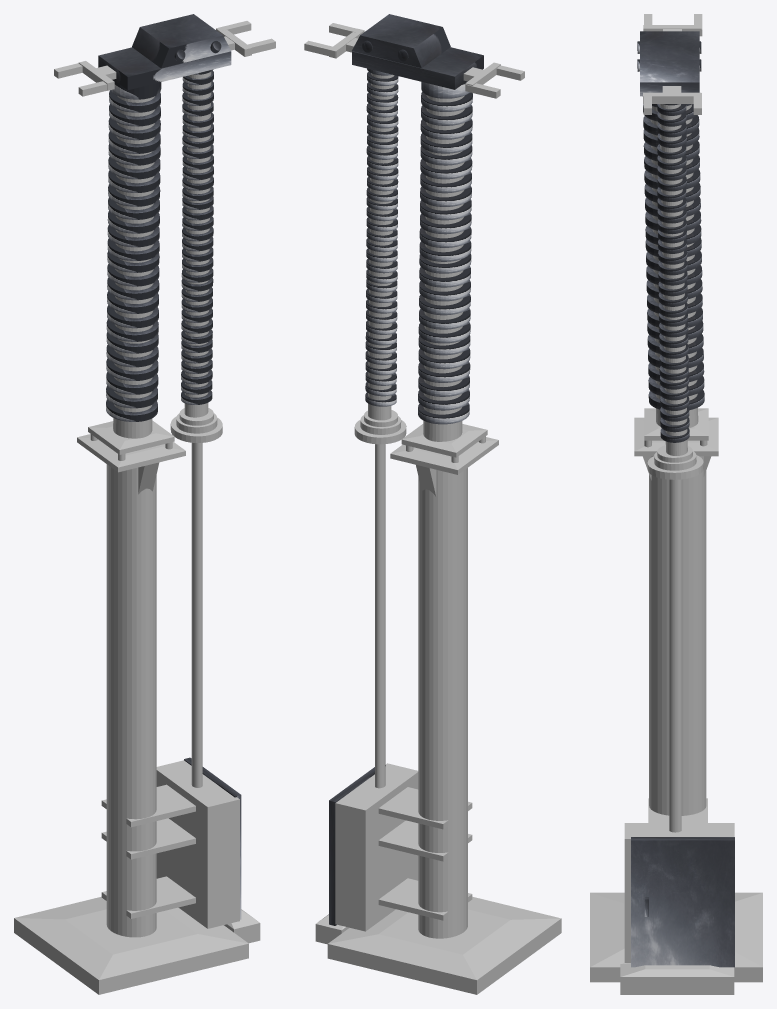
File: Modelo4_115.fbx
The picture shows the model from 3 angles, left to right: view 1: azimuth 30°, elevation 25°; view 2: azimuth 150°, elevation 25°; view 3: azimuth 270°, elevation 25°; orthographic projection. The views are drawn at different scales.
Visible parts, largest first — view 1: Cube.051, Cubo.002; view 2: Cube.051, Cubo.002; view 3: Cube.051, Cubo.002.
Boxes of the visible parts, x1=… form: Cube.051: x1=14, y1=14, x2=275, y2=994; Cubo.002: x1=184, y1=757, x2=241, y2=919; Cube.051: x1=304, y1=14, x2=561, y2=994; Cubo.002: x1=329, y1=765, x2=385, y2=925; Cube.051: x1=590, y1=14, x2=762, y2=994; Cubo.002: x1=631, y1=837, x2=734, y2=967.
Size of the model in its own units: 141 by 600 by 102.
